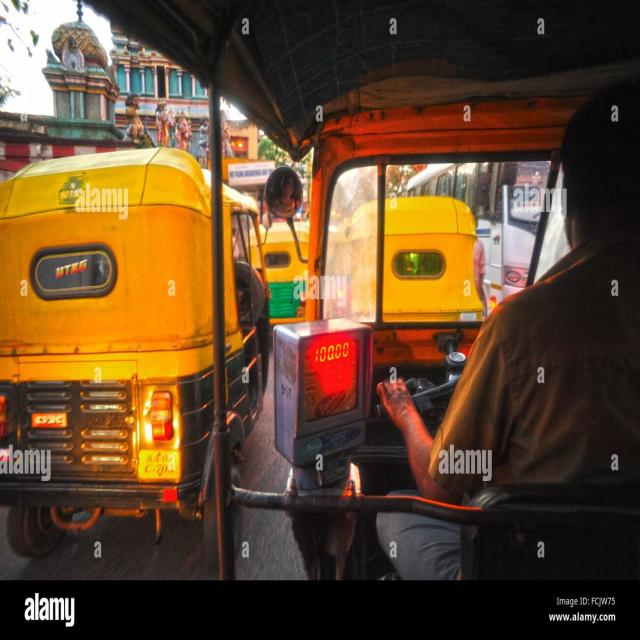autorikshaw: (0, 142, 269, 558)
